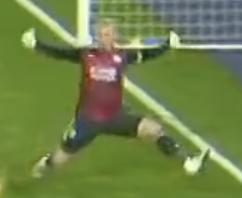goalkeeper: (15, 11, 223, 191)
